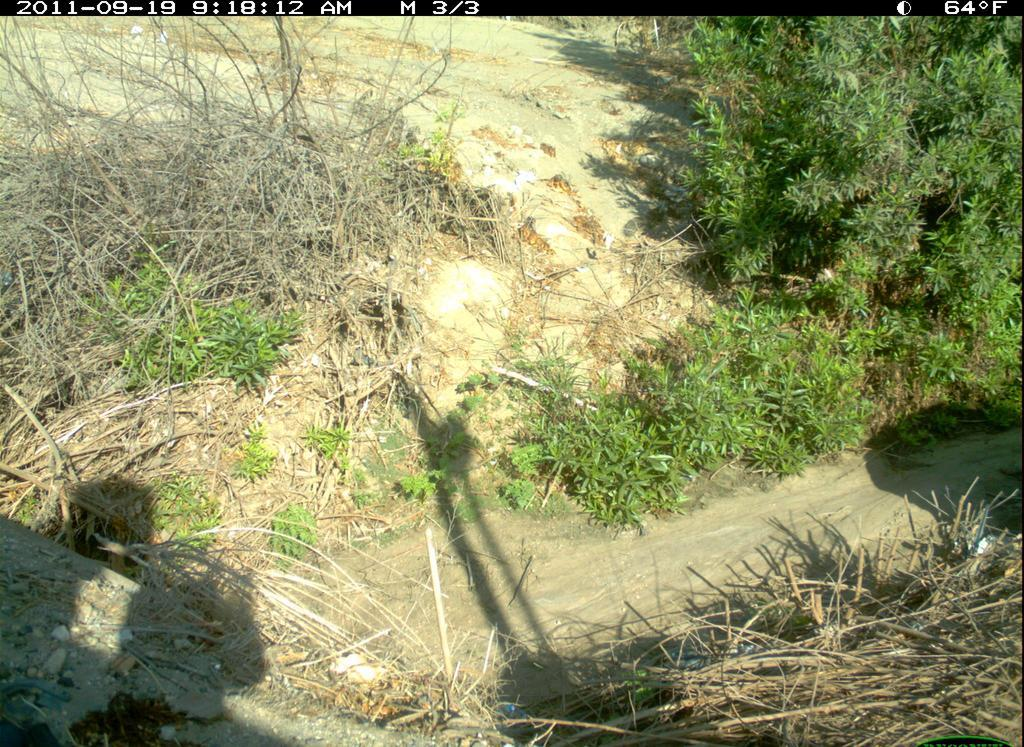squirrel: (625, 203, 670, 238)
